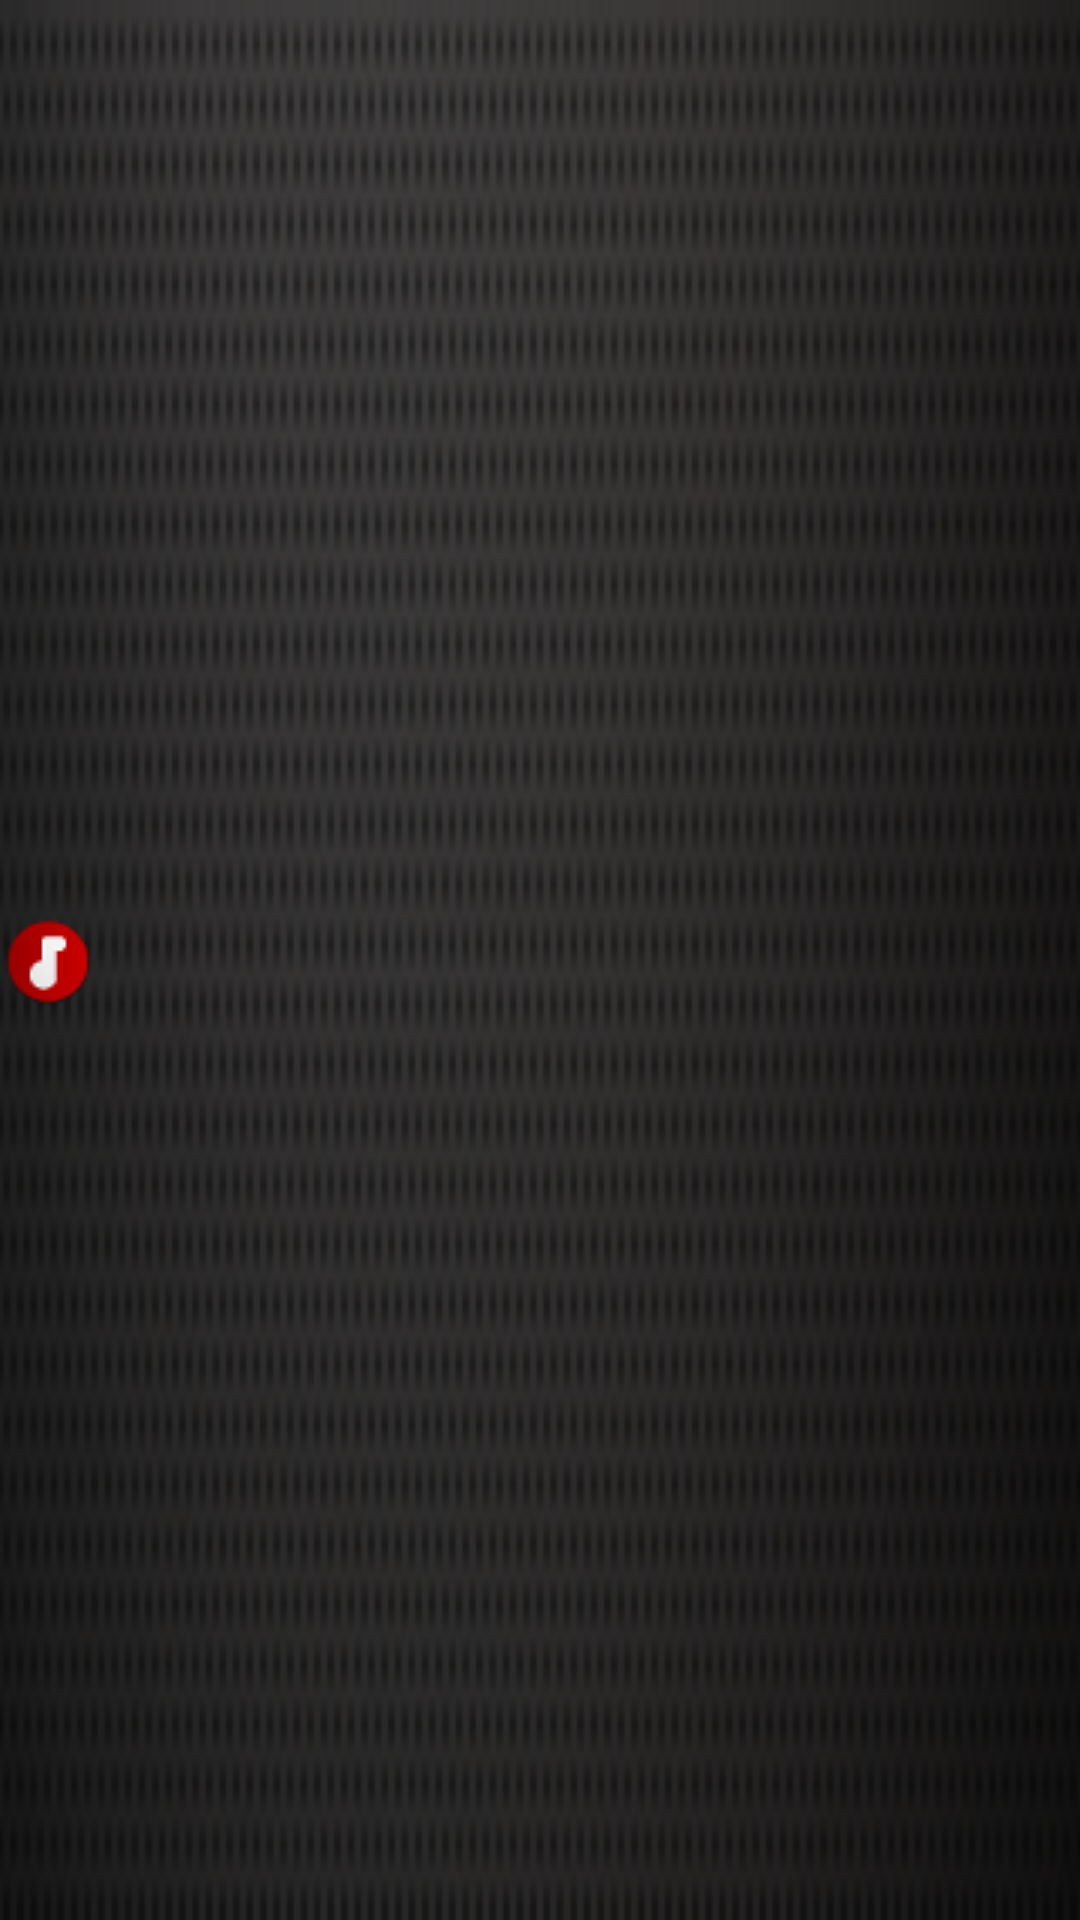

Named icons in this screenshot (1080px×1920px) and their bounding boxes, (x1, y1, x2, y2):
song: (8, 920, 89, 1003)
